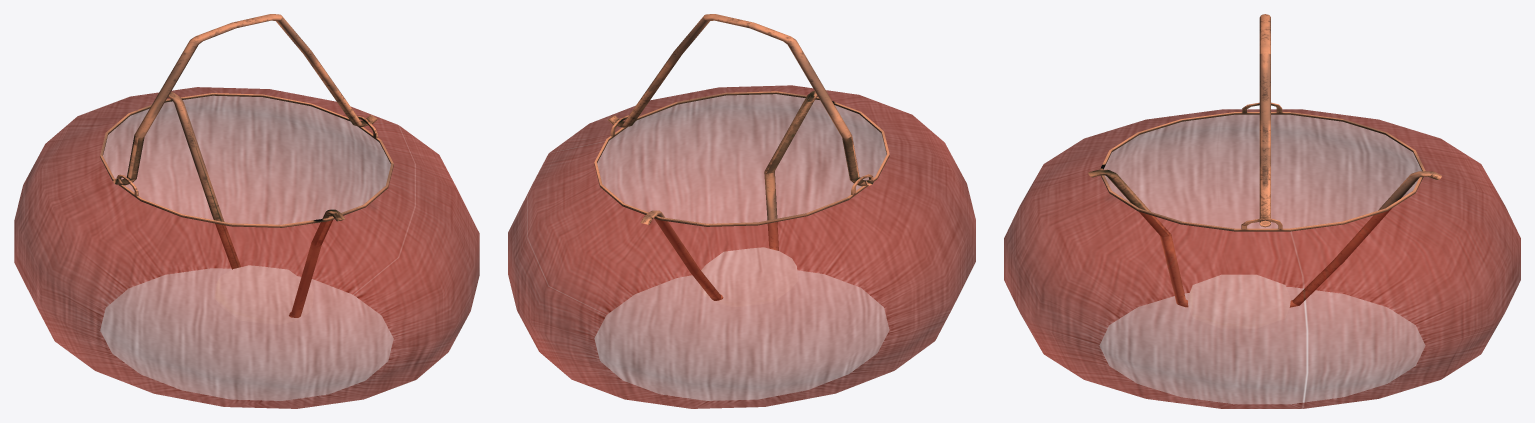
The model's file is las.glb.
The picture shows the model from 3 angles, left to right: view 1: azimuth 30°, elevation 25°; view 2: azimuth 150°, elevation 25°; view 3: azimuth 270°, elevation 25°; orthographic projection.
Parts seen in each view (by area): view 1: Object_2; view 2: Object_2; view 3: Object_2.
Part boxes in pixels (<box>): Object_2: <box>14,14,479,408</box>; Object_2: <box>508,14,975,408</box>; Object_2: <box>1004,14,1520,408</box>.
Bounding box in the file's own units: 1.75 × 1.37 × 2.05.
Materials: 1 (1 with a texture image).
